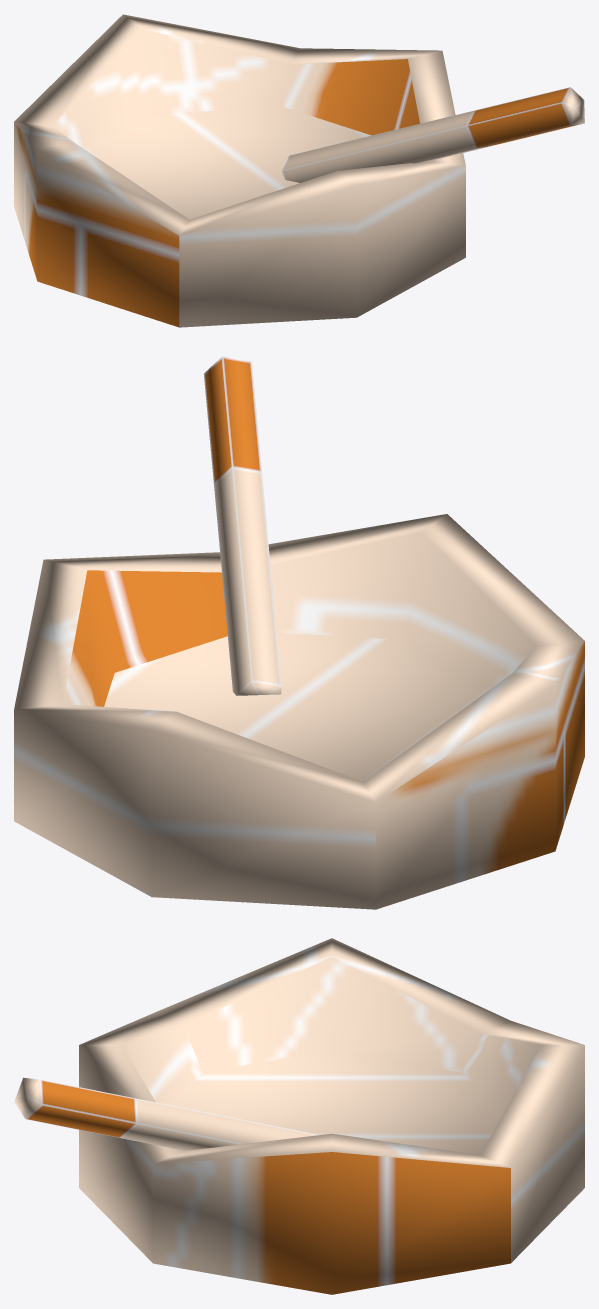
The model's file is cigarette.fbx.
The picture shows the model from 3 angles, top to bottom: view 1: azimuth 30°, elevation 25°; view 2: azimuth 150°, elevation 25°; view 3: azimuth 270°, elevation 25°; orthographic projection. The views are drawn at different scales.
Parts seen in each view (by area): view 1: polySurface68, polySurface67; view 2: polySurface68, polySurface67; view 3: polySurface68, polySurface67.
Boxes of the visible parts, x1,y1,x2,y2 form: polySurface68: (14, 14, 465, 327); polySurface67: (282, 87, 584, 182); polySurface68: (14, 514, 584, 909); polySurface67: (204, 356, 281, 695); polySurface68: (79, 938, 584, 1294); polySurface67: (14, 1077, 318, 1150).
Bounding box in the file's own units: 0.2591 × 0.1176 × 0.2871.
1 material, 1 textured.
